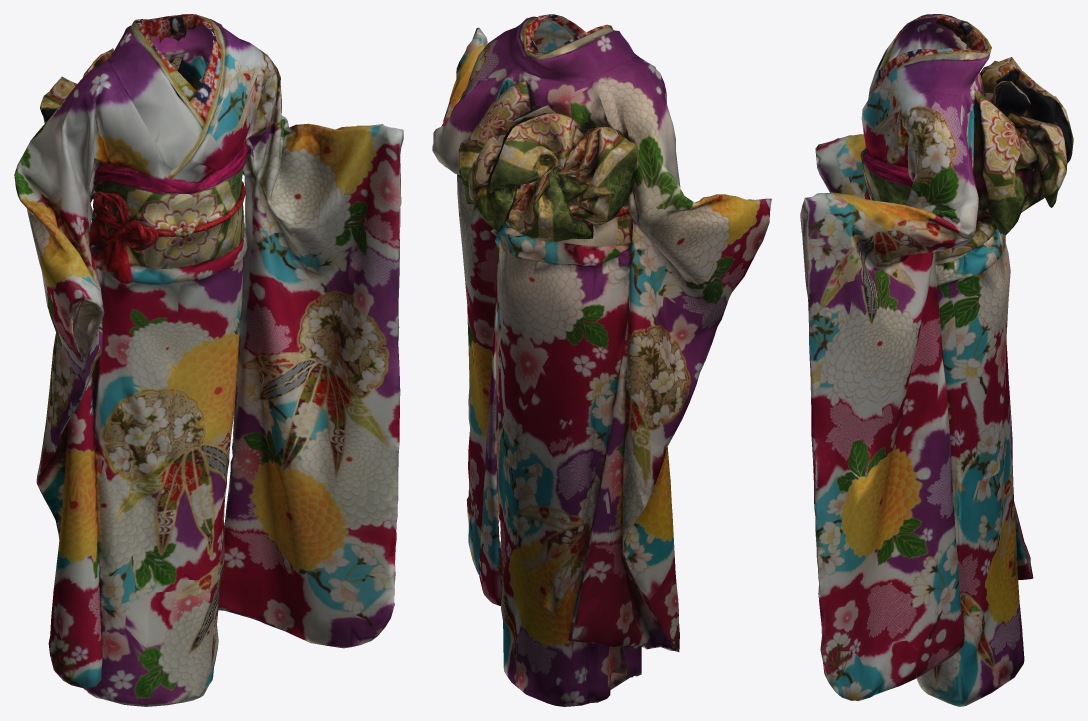
File: low poly kimono.glb
3 views of the same model, side by side, from view 1: azimuth 30°, elevation 25°; view 2: azimuth 150°, elevation 25°; view 3: azimuth 270°, elevation 25° (orthographic). The views are drawn at different scales.
Parts seen in each view (by area): view 1: kimonoobi2lowdef; view 2: kimonoobi2lowdef; view 3: kimonoobi2lowdef.
Boxes of the visible parts, x1,y1,x2,y2 form: kimonoobi2lowdef: (14,14,403,706); kimonoobi2lowdef: (432,14,771,706); kimonoobi2lowdef: (800,14,1073,706).
Size of the model in its own units: 5.41 by 10.89 by 4.13.
Materials: 1 (1 with a texture image).
